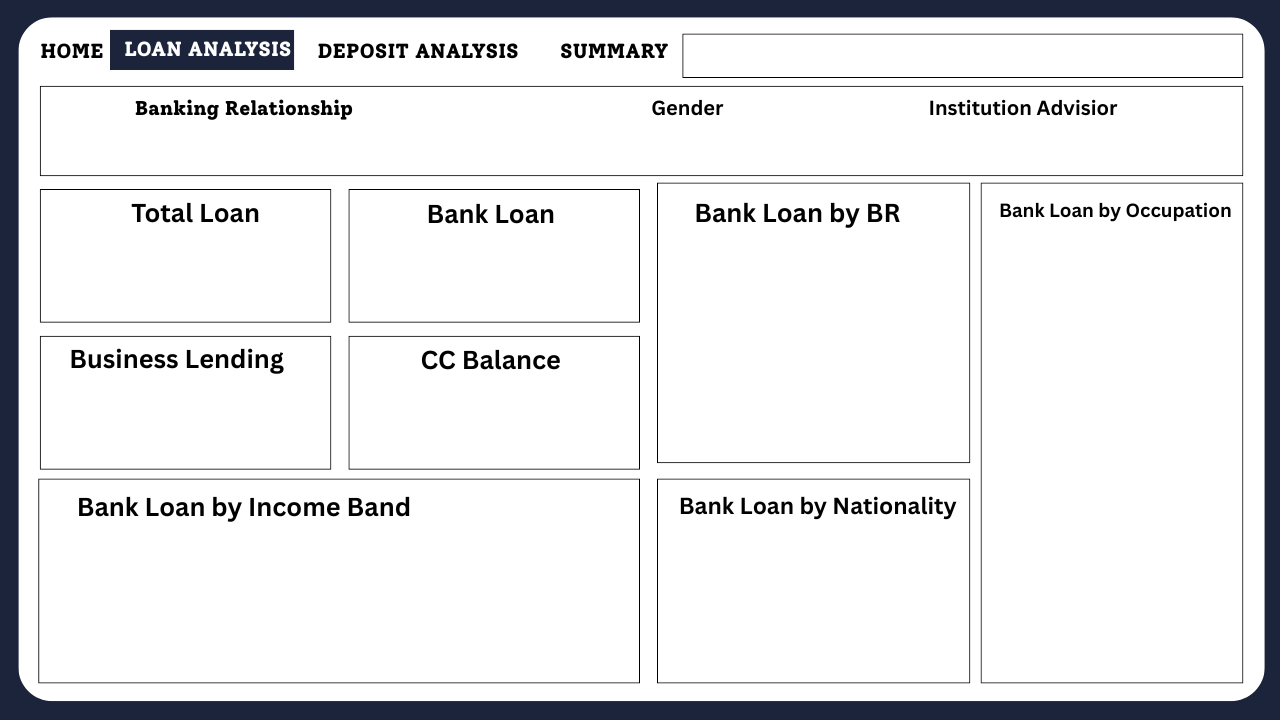

The page's visual inventory and layout, read from the dashboard file:
{"tool":"powerbi","page":{"name":"Loan Analysis","canvas":[1280,720],"ordinal":1},"visuals":[{"type":"actionButton","box":[36.2,36.2,71.2,25.3],"z":0},{"type":"actionButton","box":[312.9,28.8,214.1,39.8],"z":1000},{"type":"actionButton","box":[557.1,30.2,113.9,39.8],"z":2000},{"type":"slicer","fields":{"Values":["customer.Year of joining"]},"box":[693,35.7,537.9,34.3],"z":3000},{"type":"card","fields":{"Values":["Sum(customer.Bank Loans)"]},"box":[397.9,244.3,194.9,63.1],"z":4000},{"type":"card","fields":{"Values":["Sum(customer.Business Lending)"]},"box":[71.4,387,194.9,64.5],"z":5000},{"type":"card","fields":{"Values":["Sum(customer.Credit Card Balance)"]},"box":[378.7,381.5,194.9,75.5],"z":6000},{"type":"card","fields":{"Values":["customer.Total Loan"]},"box":[94.7,238.8,194.9,74.1],"z":7000},{"type":"donutChart","fields":{"Category":["customer.Income Band"],"Y":["Sum(customer.Bank Loans)"]},"box":[49.4,516,565.4,160.5],"z":8000},{"type":"clusteredColumnChart","fields":{"Category":["customer.BRId"],"Y":["Sum(customer.Bank Loans)"]},"box":[661.4,233.3,300.5,214.1],"z":9000},{"type":"clusteredColumnChart","fields":{"Category":["customer.Nationality"],"Y":["Sum(customer.Bank Loans)"]},"box":[671,516,290.9,150.9],"z":10000},{"type":"clusteredColumnChart","fields":{"Category":["customer.Occupation"],"Y":["Sum(customer.Bank Loans)"]},"box":[988,233.3,242.9,433.6],"z":11000},{"type":"slicer","fields":{"Values":["customer.BRId"]},"box":[49.4,118,461.1,50.8],"z":12000},{"type":"slicer","fields":{"Values":["customer.GenderId"]},"box":[510.5,118,285.4,45.3],"z":13000},{"type":"slicer","fields":{"Values":["customer.IAId"]},"box":[794.5,118,436.4,45.3],"z":14000},{"type":"actionButton","box":[312.9,28.8,214.1,39.8],"z":15000}]}

Visuals, with their boxes in screenshot pixels (x1, y1, x2, y2), scaled from the page's 1280x720 canvas onto the 1280x720 screenshot:
actionButton: region(36, 36, 107, 62)
actionButton: region(313, 29, 527, 69)
actionButton: region(557, 30, 671, 70)
slicer - customer.Year of joining: region(693, 36, 1231, 70)
card - Sum(customer.Bank Loans): region(398, 244, 593, 307)
card - Sum(customer.Business Lending): region(71, 387, 266, 452)
card - Sum(customer.Credit Card Balance): region(379, 382, 574, 457)
card - customer.Total Loan: region(95, 239, 290, 313)
donutChart - customer.Income Band x Sum(customer.Bank Loans): region(49, 516, 615, 676)
clusteredColumnChart - customer.BRId x Sum(customer.Bank Loans): region(661, 233, 962, 447)
clusteredColumnChart - customer.Nationality x Sum(customer.Bank Loans): region(671, 516, 962, 667)
clusteredColumnChart - customer.Occupation x Sum(customer.Bank Loans): region(988, 233, 1231, 667)
slicer - customer.BRId: region(49, 118, 510, 169)
slicer - customer.GenderId: region(510, 118, 796, 163)
slicer - customer.IAId: region(794, 118, 1231, 163)
actionButton: region(313, 29, 527, 69)
